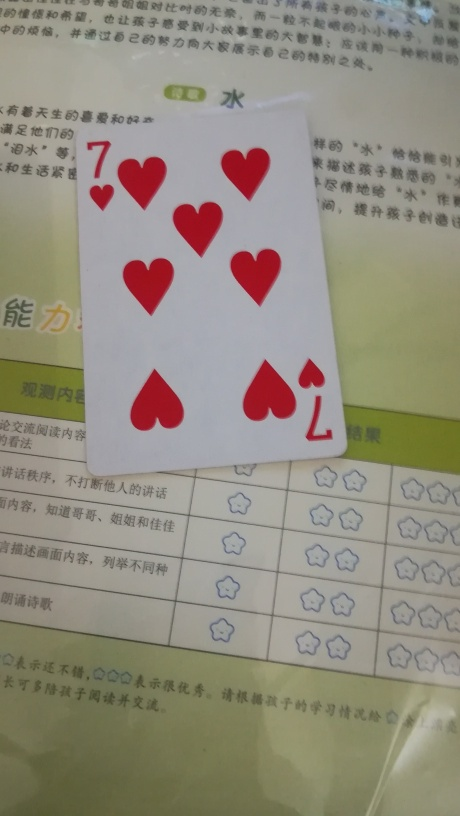hx 7: (71, 110, 347, 480)
